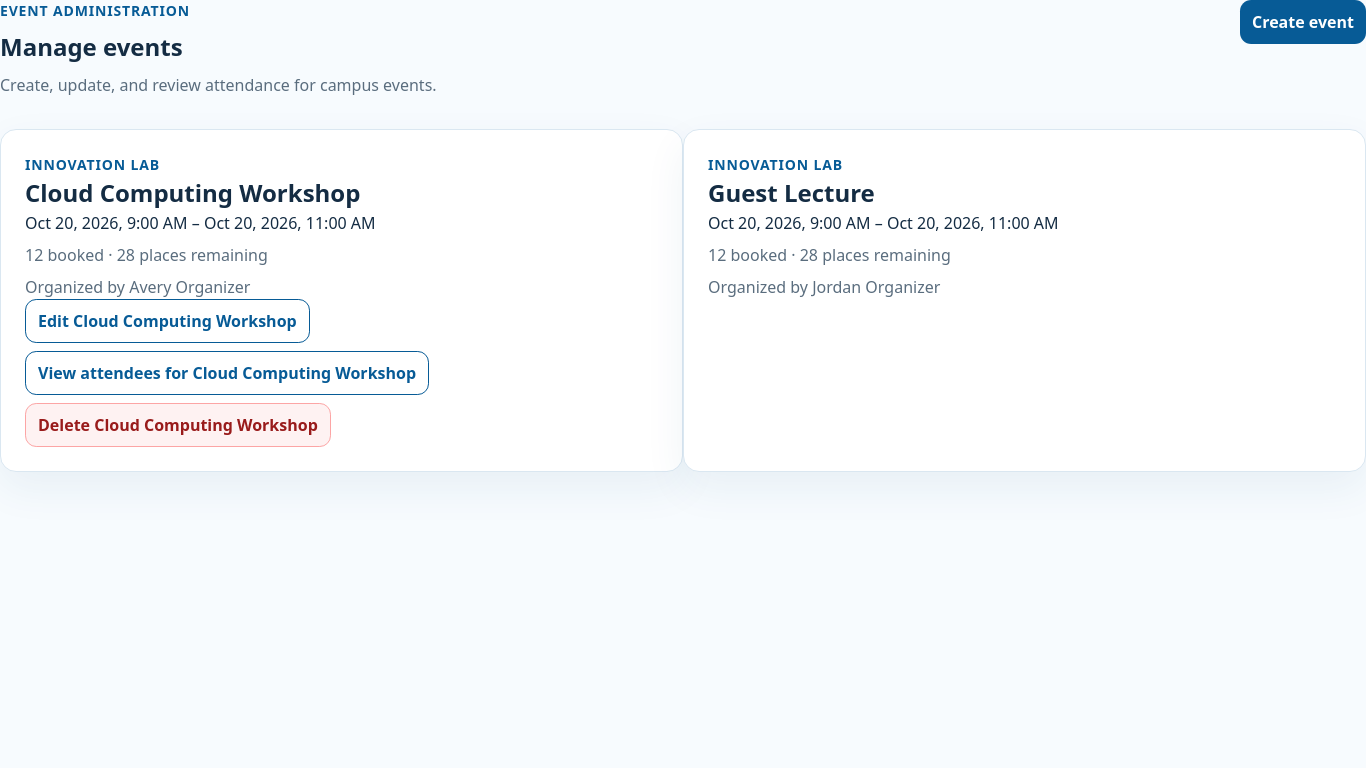
ManageEventsPage › waits for deletion confirmation before deleting and removes the event after success
The width and height of the screenshot is (1366, 768).
Expected: the heading "Cloud Computing Workshop" is shown, [25,176,360,209]
Click the button "Delete Cloud Computing Workshop" at {"x": 178, "y": 425}, box [25,403,331,447]
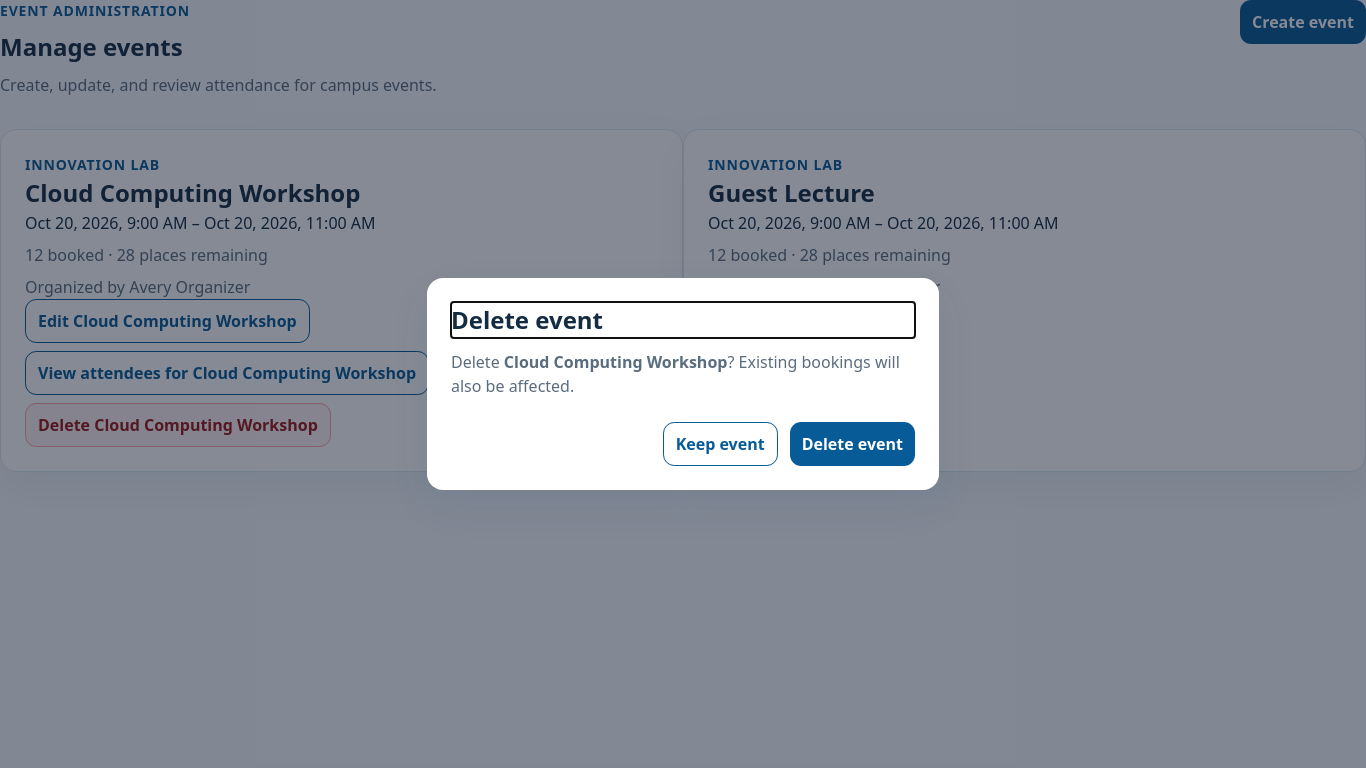
Expected: the dialog "Delete event" is shown, [427,278,939,490]
Click the button "Delete event" at {"x": 852, "y": 444}, box [790,422,915,466]
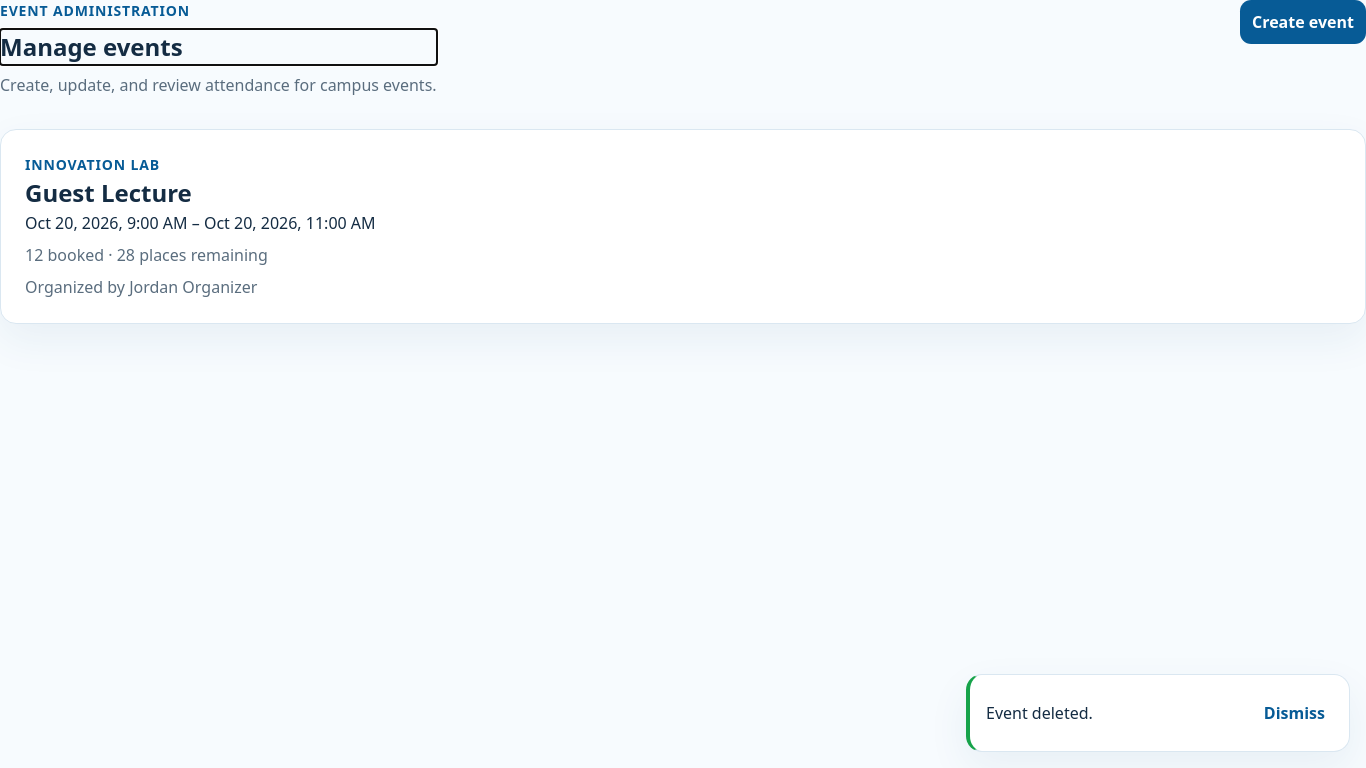
Expected: the text "Event deleted." is shown, [986,701,1093,725]
Expected: the heading "Cloud Computing Workshop" is gone
